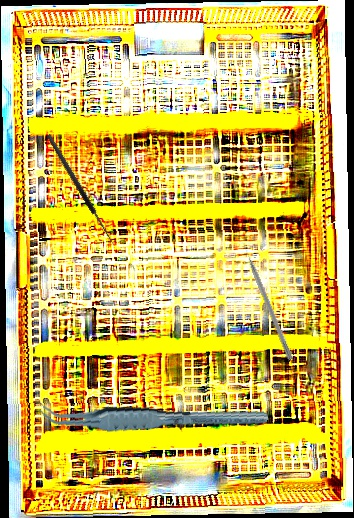Hook Surgical: (45, 130, 122, 246)
Pusher: (240, 240, 295, 361)
Tissue Forceps: (37, 383, 269, 452)
